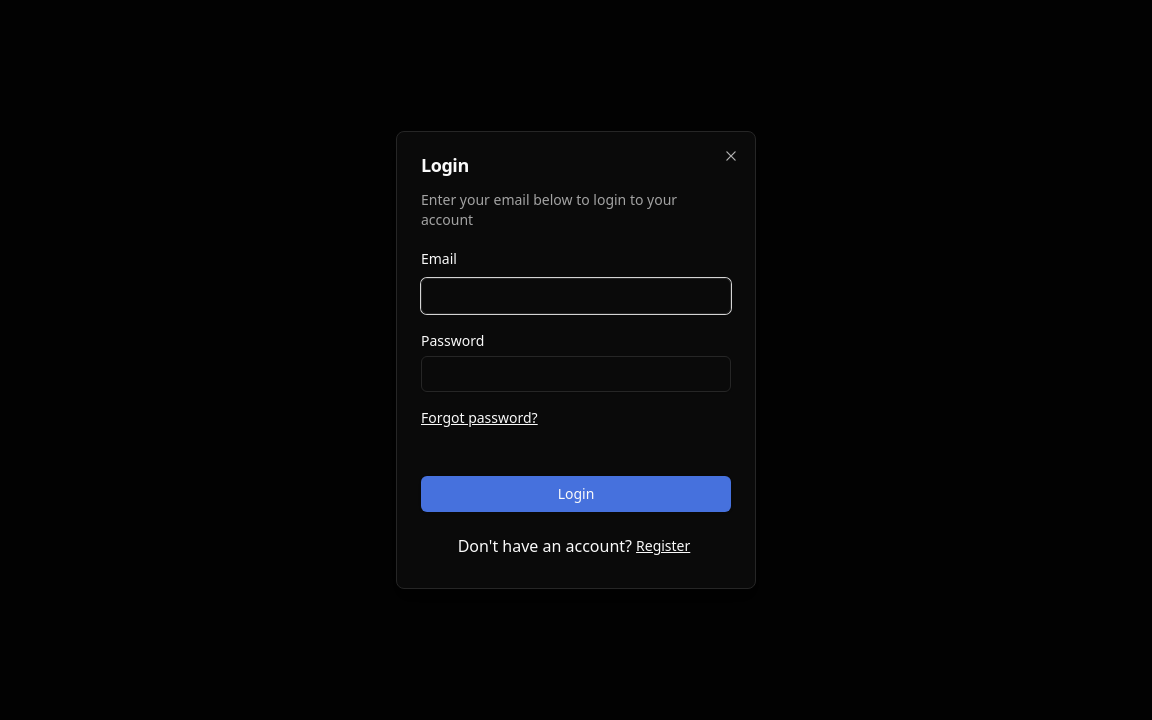
LoginRegister › should show error message when account or password is wrong
Type "test@email.com" into the field labelled "Email" at {"x": 576, "y": 296}, box [421,278,731,314]
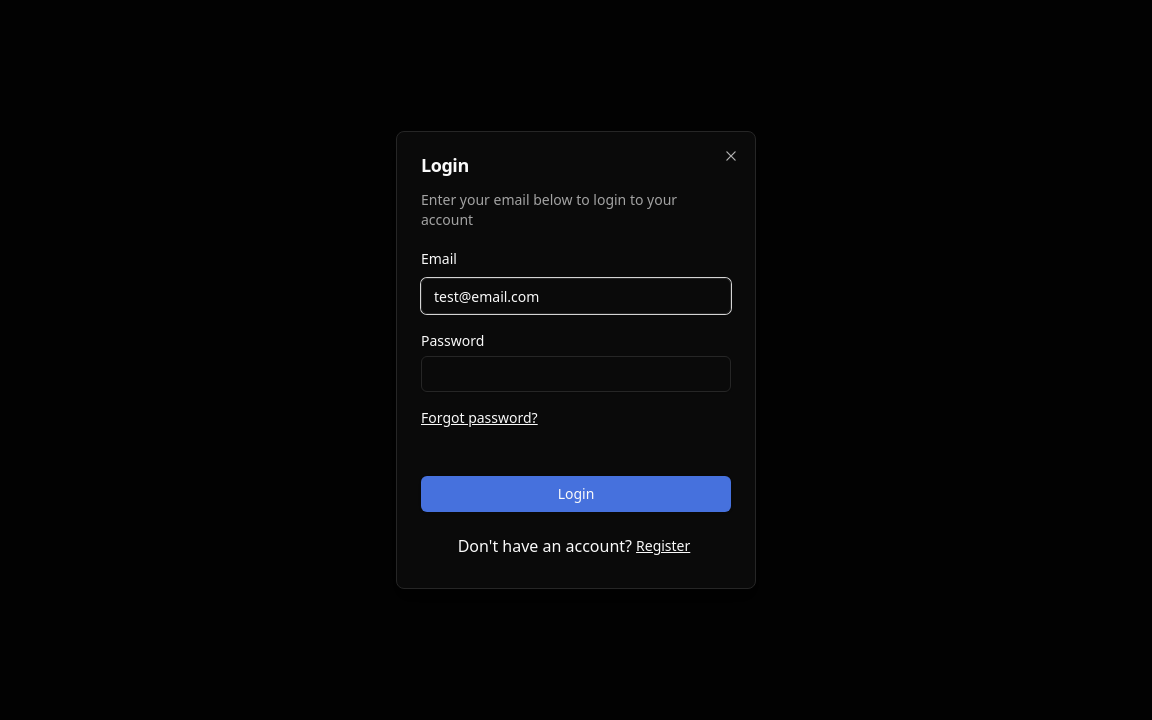
Type "password" into the password field labelled "Password" at {"x": 576, "y": 374}, box [421,356,731,392]
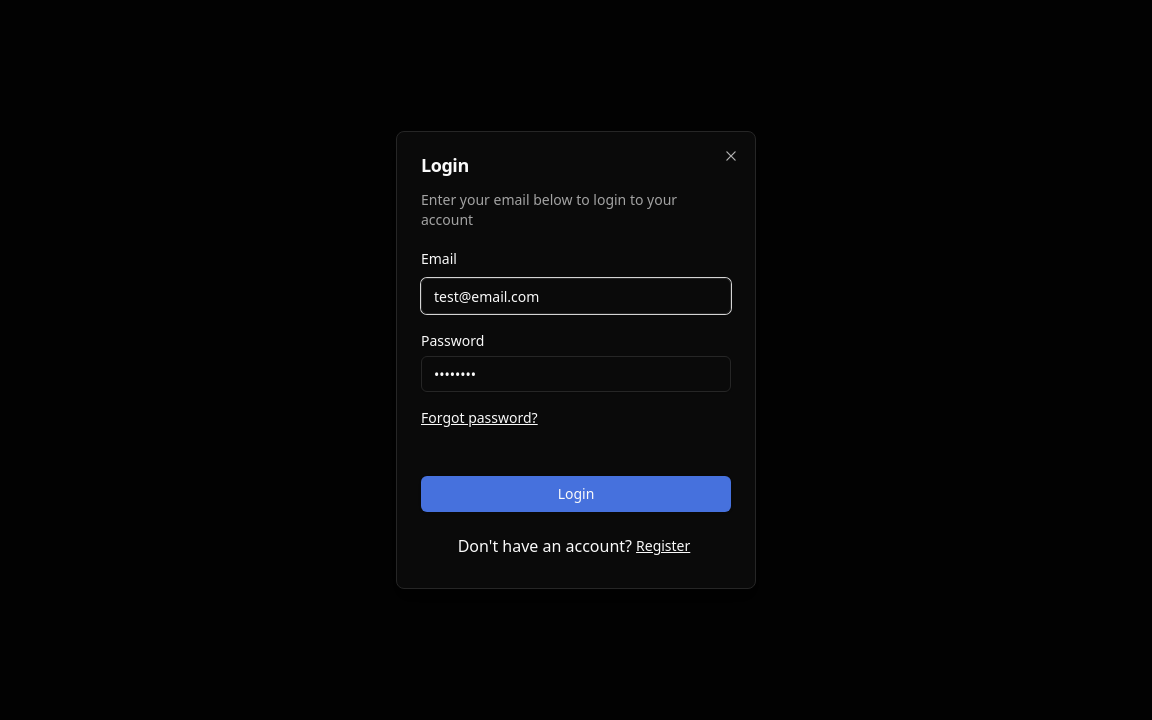
Click the button "Login" at {"x": 576, "y": 494}, box [421,476,731,512]
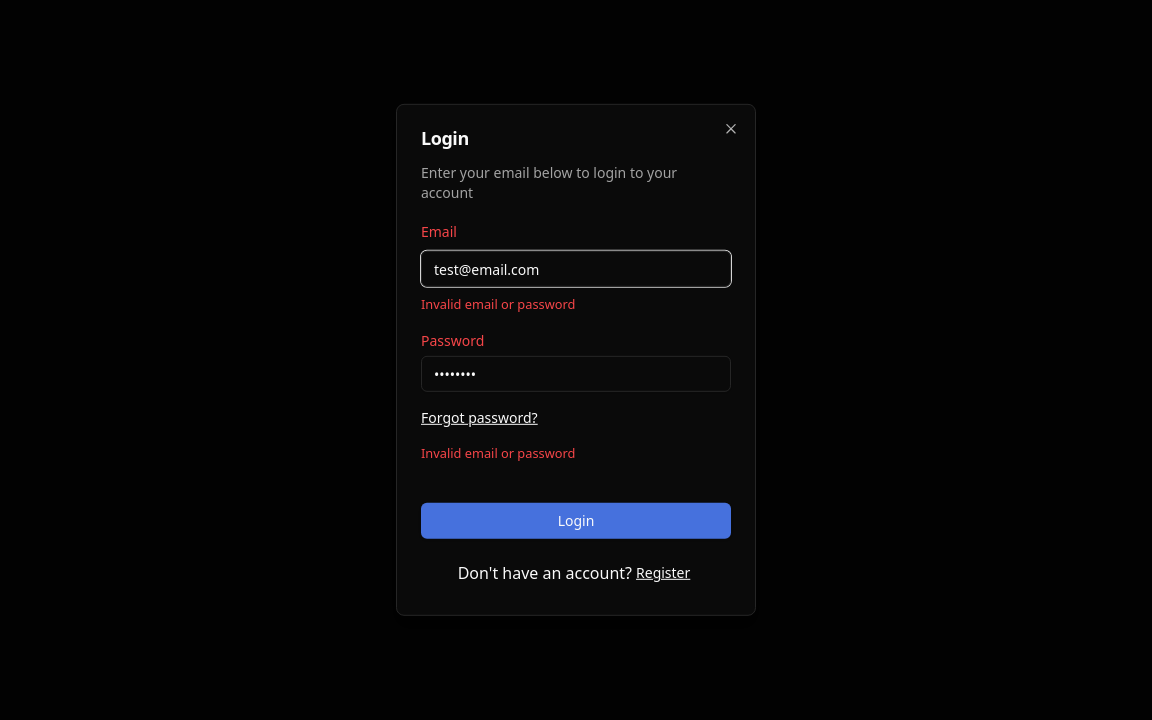
Result: the text "Invalid email or password" is shown 2 times at [421,295,575,313]; [421,444,575,462]
